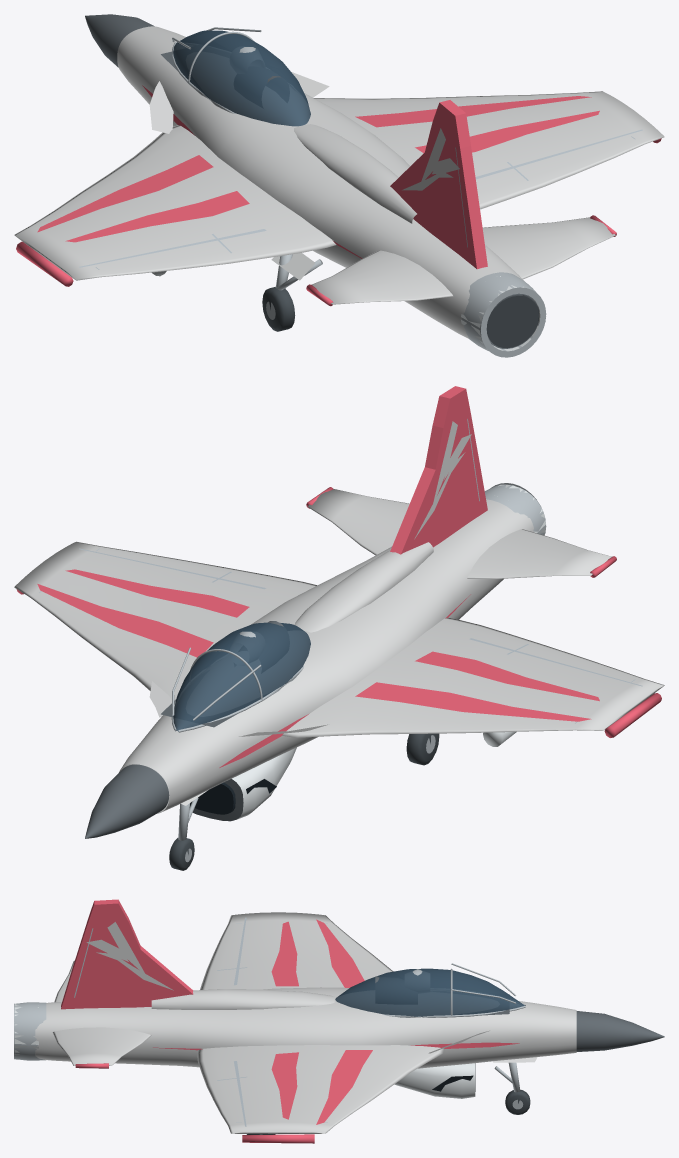
The model's file is fighter.glb.
The picture shows the model from 3 angles, top to bottom: view 1: azimuth 30°, elevation 25°; view 2: azimuth 150°, elevation 25°; view 3: azimuth 270°, elevation 25°; orthographic projection. The views are drawn at different scales.
Visible parts, largest first — view 1: AC_LIVERY_BASE, AC_LIVERY_PRIMARY, AC_GLASS, AC_METAL, AC_TIRE, AC_DARK, AC_PANEL_LINES; view 2: AC_LIVERY_BASE, AC_LIVERY_PRIMARY, AC_GLASS, AC_DARK, AC_METAL, AC_LIVERY_ACCENT, AC_TIRE, AC_INLET_VOID, AC_PANEL_LINES; view 3: AC_LIVERY_BASE, AC_LIVERY_PRIMARY, AC_GLASS, AC_METAL, AC_DARK, AC_LIVERY_ACCENT, AC_PANEL_LINES, AC_TIRE.
Boxes of the visible parts, bbox=[...] form: AC_LIVERY_BASE: bbox=[14, 26, 664, 338]; AC_LIVERY_PRIMARY: bbox=[16, 85, 661, 306]; AC_GLASS: bbox=[173, 30, 310, 126]; AC_METAL: bbox=[172, 27, 546, 357]; AC_TIRE: bbox=[262, 286, 538, 348]; AC_DARK: bbox=[85, 14, 539, 348]; AC_PANEL_LINES: bbox=[39, 95, 642, 269]; AC_LIVERY_BASE: bbox=[14, 421, 664, 813]; AC_LIVERY_PRIMARY: bbox=[16, 386, 661, 767]; AC_GLASS: bbox=[173, 622, 310, 731]; AC_DARK: bbox=[85, 621, 283, 838]; AC_METAL: bbox=[171, 483, 546, 862]; AC_LIVERY_ACCENT: bbox=[232, 484, 545, 819]; AC_TIRE: bbox=[169, 733, 439, 870]; AC_INLET_VOID: bbox=[190, 779, 276, 814]; AC_PANEL_LINES: bbox=[39, 419, 642, 723]; AC_LIVERY_BASE: bbox=[35, 912, 576, 1133]; AC_LIVERY_PRIMARY: bbox=[61, 899, 519, 1143]; AC_GLASS: bbox=[335, 968, 524, 1016]; AC_METAL: bbox=[14, 963, 525, 1134]; AC_DARK: bbox=[375, 976, 664, 1091]; AC_LIVERY_ACCENT: bbox=[14, 1003, 475, 1098]; AC_PANEL_LINES: bbox=[74, 917, 327, 1126]; AC_TIRE: bbox=[246, 1089, 530, 1134].
Size of the model in its own units: 7.15 by 3.18 by 8.85.
